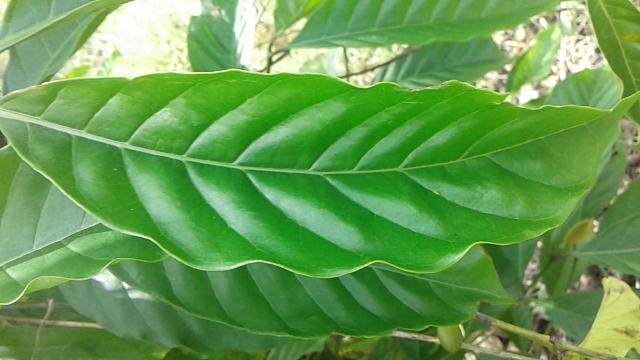healthy: (0, 66, 640, 281)
